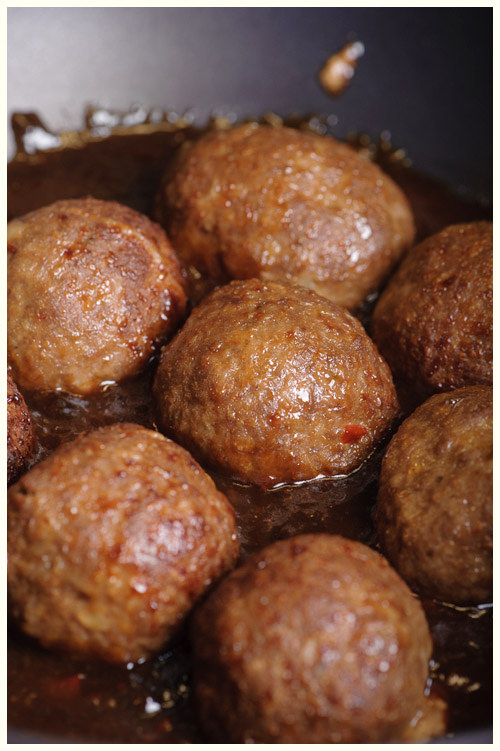meatballs: (21, 109, 479, 709), (1, 418, 250, 652), (195, 537, 442, 736), (160, 277, 393, 485), (168, 112, 403, 296), (15, 188, 185, 387)
